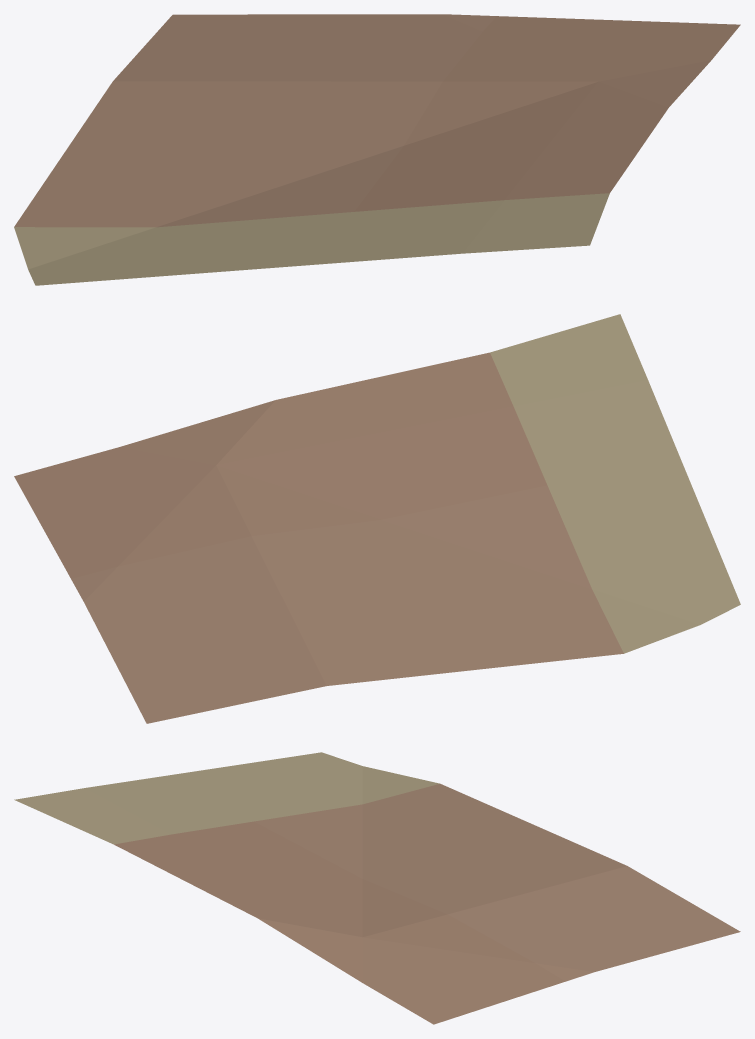
The model's file is farm_-25_-29_soil.glb.
3 renders of one model, top to bottom at view 1: azimuth 30°, elevation 25°; view 2: azimuth 150°, elevation 25°; view 3: azimuth 270°, elevation 25°, orthographic. The views are drawn at different scales.
Parts seen in each view (by area): view 1: geometry_0; view 2: geometry_0; view 3: geometry_0.
Boxes of the visible parts, x1,y1,x2,y2 form: geometry_0: (14, 14, 740, 285); geometry_0: (14, 314, 740, 723); geometry_0: (14, 752, 740, 1024).
Size of the model in its own units: 85.48 by 14.95 by 92.44.
